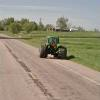Tractor: (21, 21, 73, 68)
